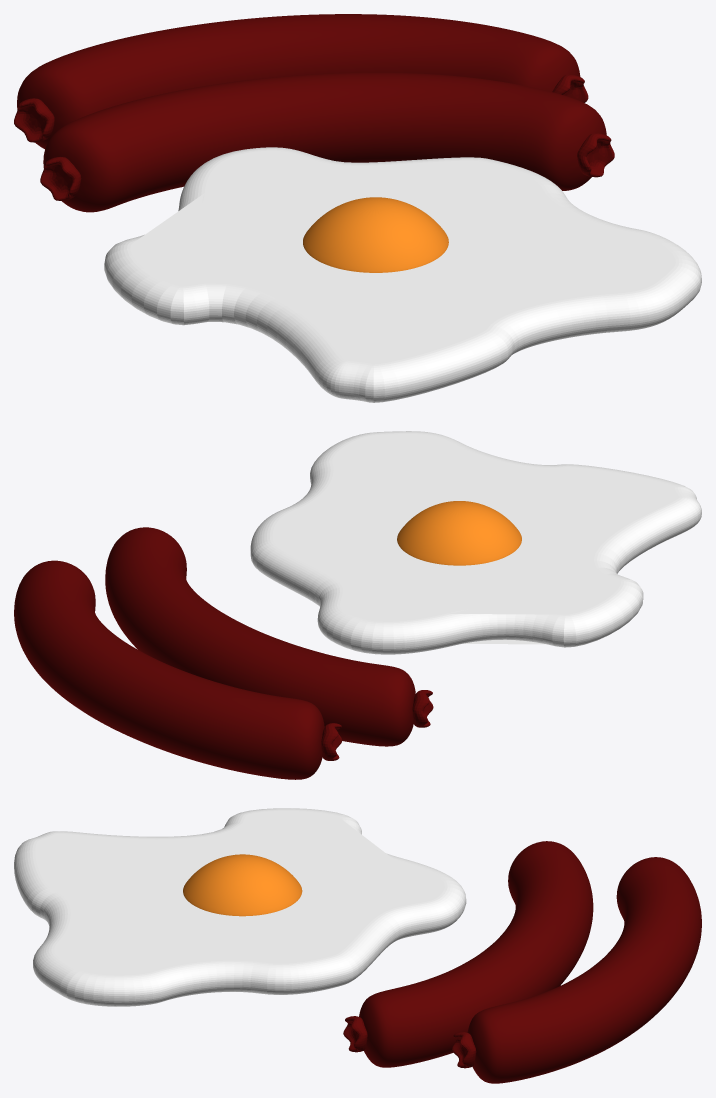
File: hrana (1) 1.fbx
3 views of the same model, one above another, from view 1: azimuth 30°, elevation 25°; view 2: azimuth 150°, elevation 25°; view 3: azimuth 270°, elevation 25° (orthographic). The views are drawn at different scales.
Parts seen in each view (by area): view 1: BezierCurve, BezierCurve.001, BezierCurve.002, Sphere; view 2: BezierCurve, BezierCurve.002, BezierCurve.001, Sphere; view 3: BezierCurve, BezierCurve.002, BezierCurve.001, Sphere.
Part boxes in pixels (left/top/right/bottom): BezierCurve: left=104, top=147, right=701, bottom=402; BezierCurve.001: left=40, top=72, right=614, bottom=212; BezierCurve.002: left=14, top=14, right=588, bottom=149; Sphere: left=303, top=197, right=448, bottom=272; BezierCurve: left=250, top=431, right=701, bottom=654; BezierCurve.002: left=14, top=560, right=342, bottom=779; BezierCurve.001: left=105, top=527, right=433, bottom=746; Sphere: left=397, top=501, right=521, bottom=565; BezierCurve: left=14, top=808, right=466, bottom=1006; BezierCurve.002: left=452, top=857, right=701, bottom=1083; BezierCurve.001: left=343, top=841, right=593, bottom=1067; Sphere: left=183, top=854, right=302, bottom=916.
Size of the model in its own units: 350 by 66.25 by 439.
